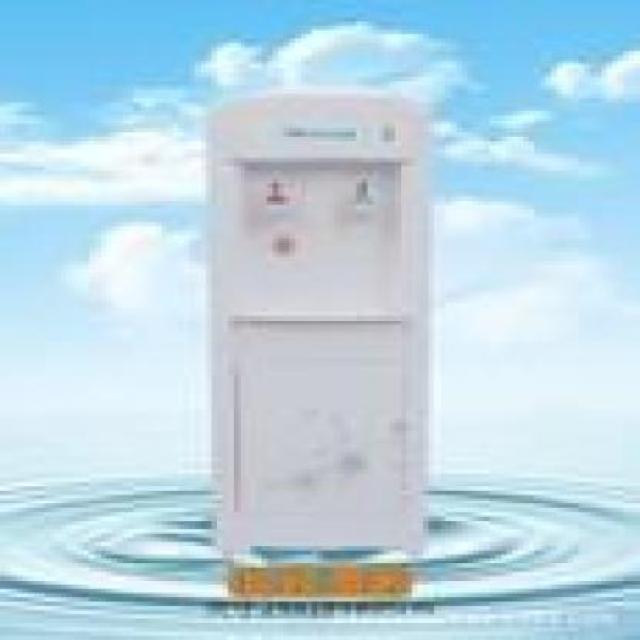cooler: (205, 90, 437, 558)
